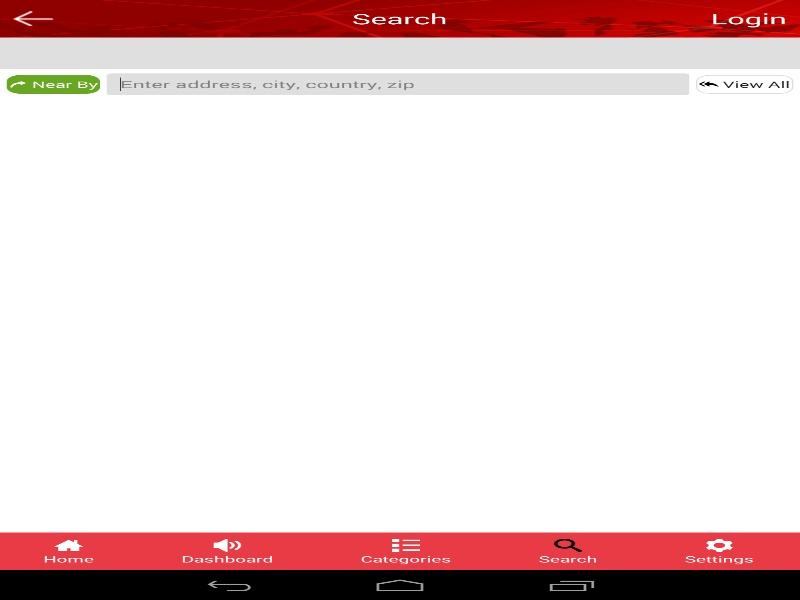Input: (120, 77, 676, 90)
